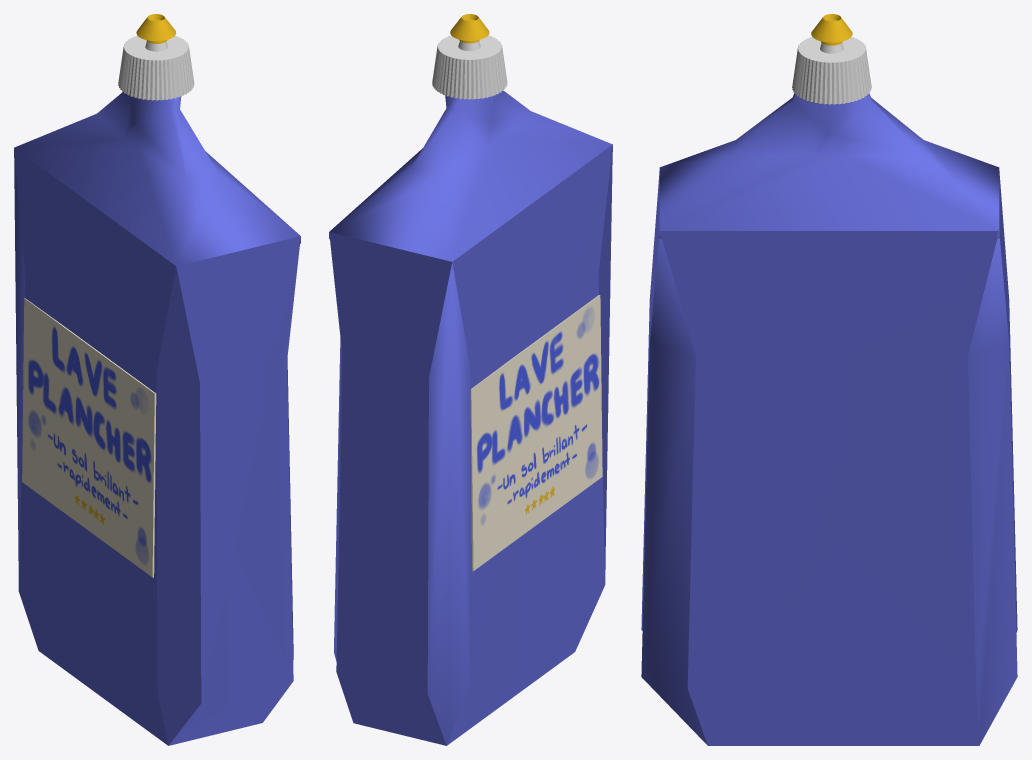
Rendered from ShineProductREAL.fbx.
3 views of the same model, side by side, from view 1: azimuth 30°, elevation 25°; view 2: azimuth 150°, elevation 25°; view 3: azimuth 270°, elevation 25° (orthographic). The views are drawn at different scales.
Parts seen in each view (by area): view 1: Cube, Cylinder, Cone.001; view 2: Cube, Cylinder, Cone.001; view 3: Cube, Cylinder, Cone.001.
Part boxes in pixels (box(x1,y1,x2,y2)): Cube: box(14, 92, 300, 745); Cylinder: box(118, 35, 194, 100); Cone.001: box(136, 14, 176, 43); Cube: box(329, 91, 612, 745); Cylinder: box(432, 35, 507, 99); Cone.001: box(450, 14, 489, 43); Cube: box(641, 93, 1017, 745); Cylinder: box(792, 37, 871, 104); Cone.001: box(811, 14, 852, 45).
Bounding box in the file's own units: 38.52 × 180 × 87.32.
4 materials, 1 textured.
